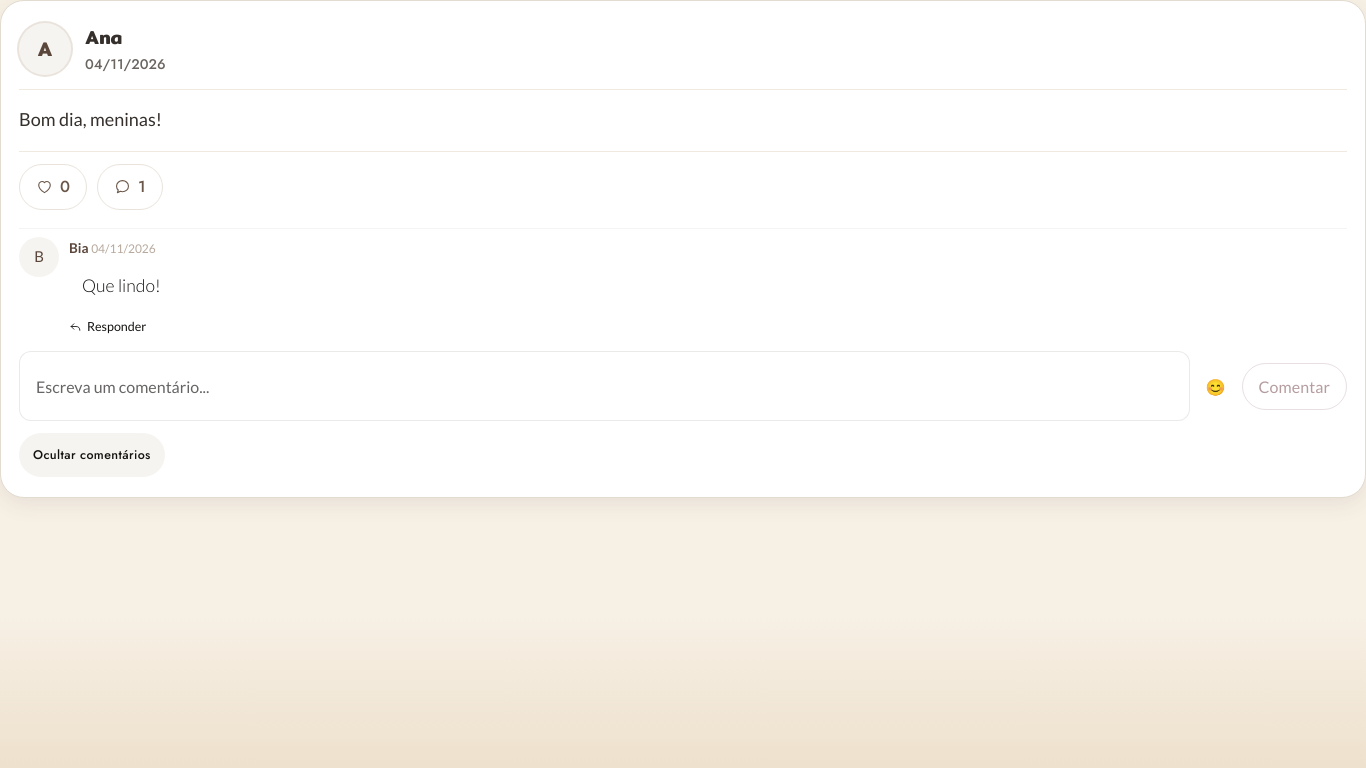
Test case: PostCard — conversa do feed aberta abaixo da mensagem › "Ocultar comentários" fecha a conversa e o aviso abre de novo
Expected: the text "Que lindo!" is shown, [82, 275, 161, 296]
Click the button "Ocultar comentários": (92, 455) [19, 433, 165, 477]
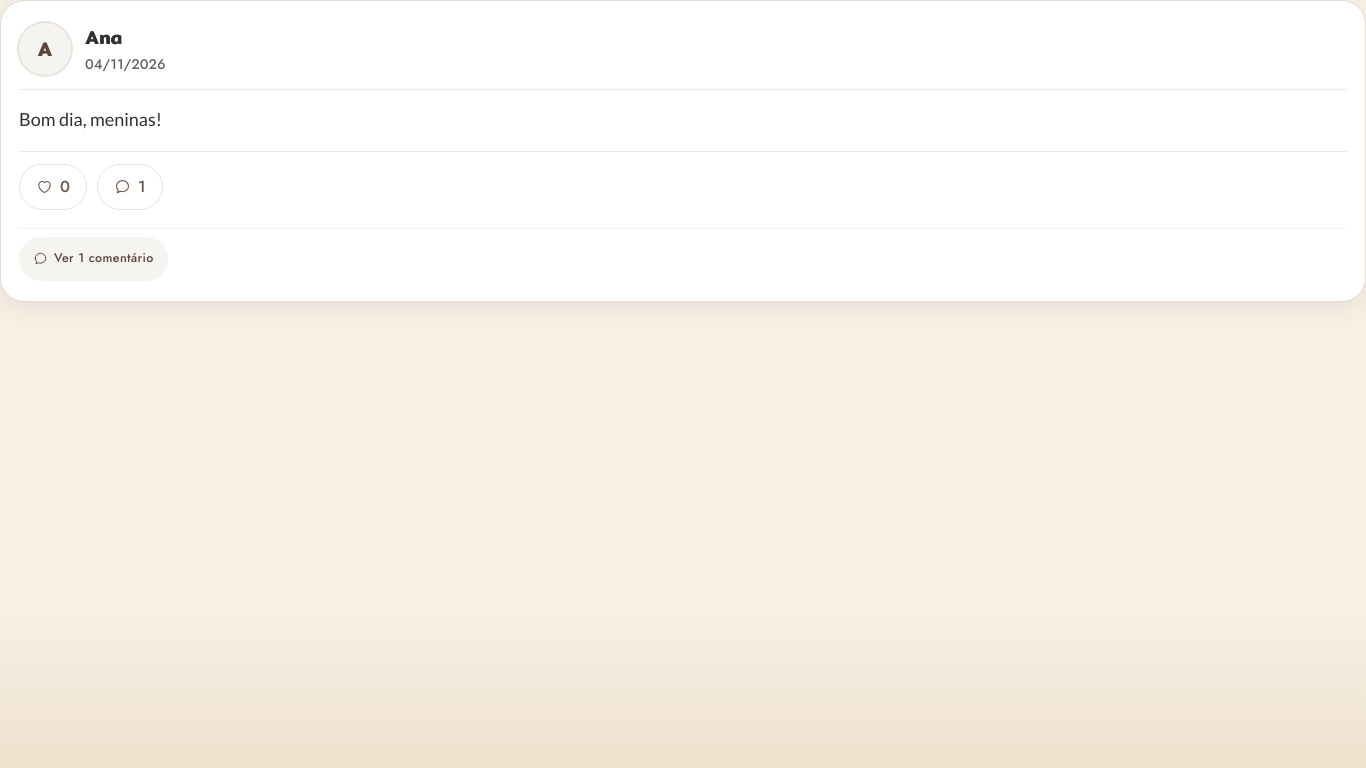
Expected: the text "Que lindo!" is gone
Click the button "Ver 1 comentário": (93, 259) [19, 237, 168, 281]
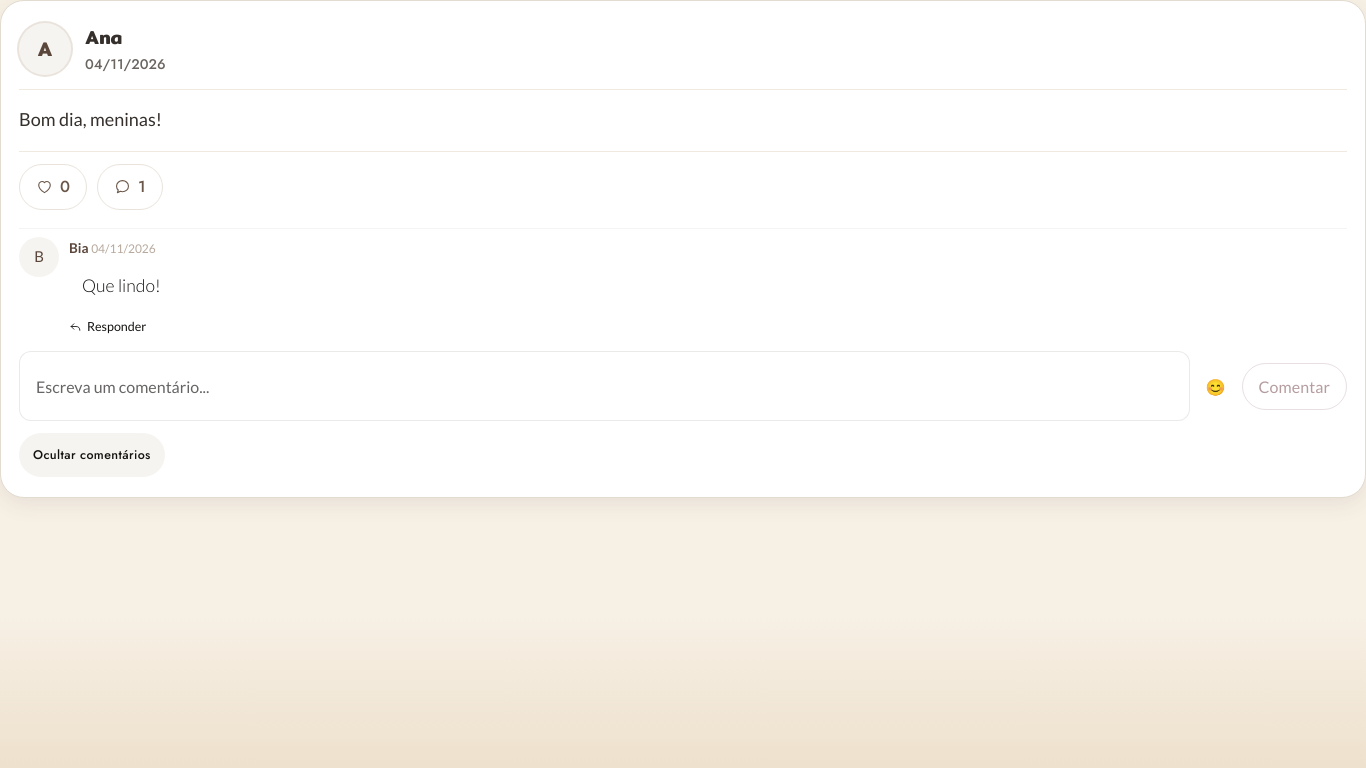
Expected: the text "Que lindo!" is shown, [82, 275, 161, 296]
